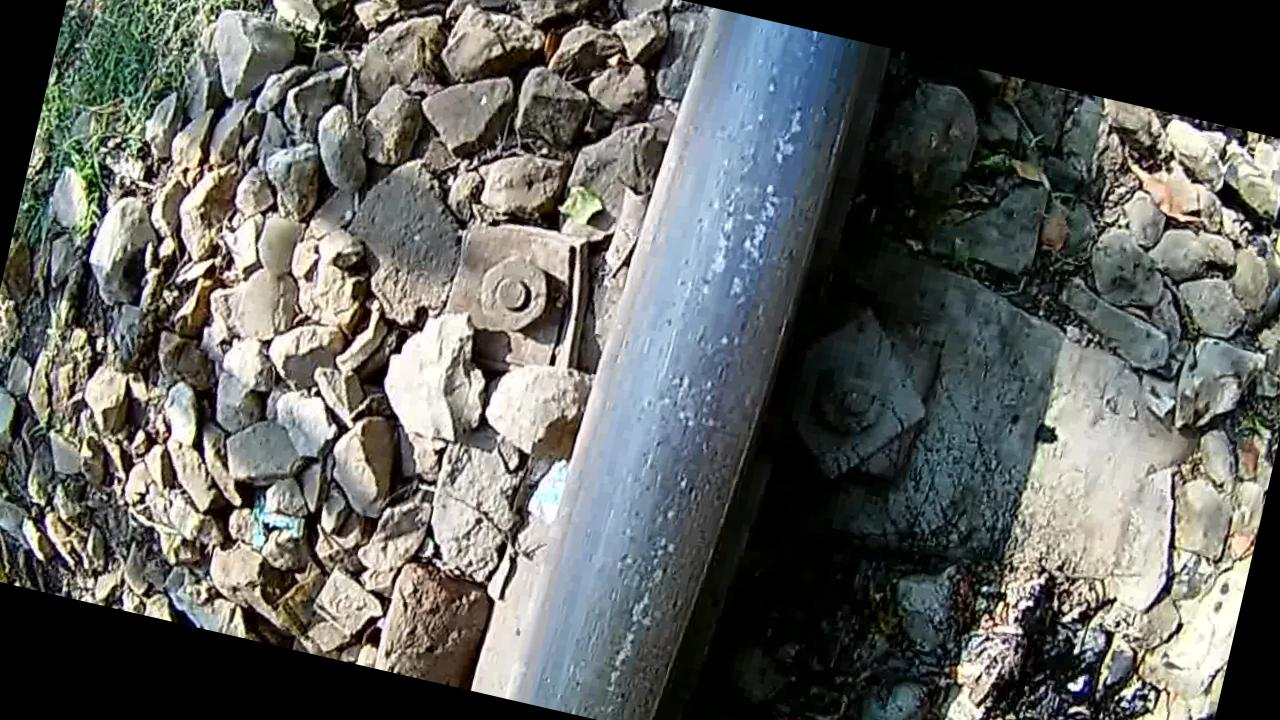clip_missing: (522, 4, 878, 720)
